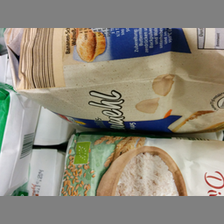flour: (6, 28, 223, 136), (56, 132, 224, 197)
